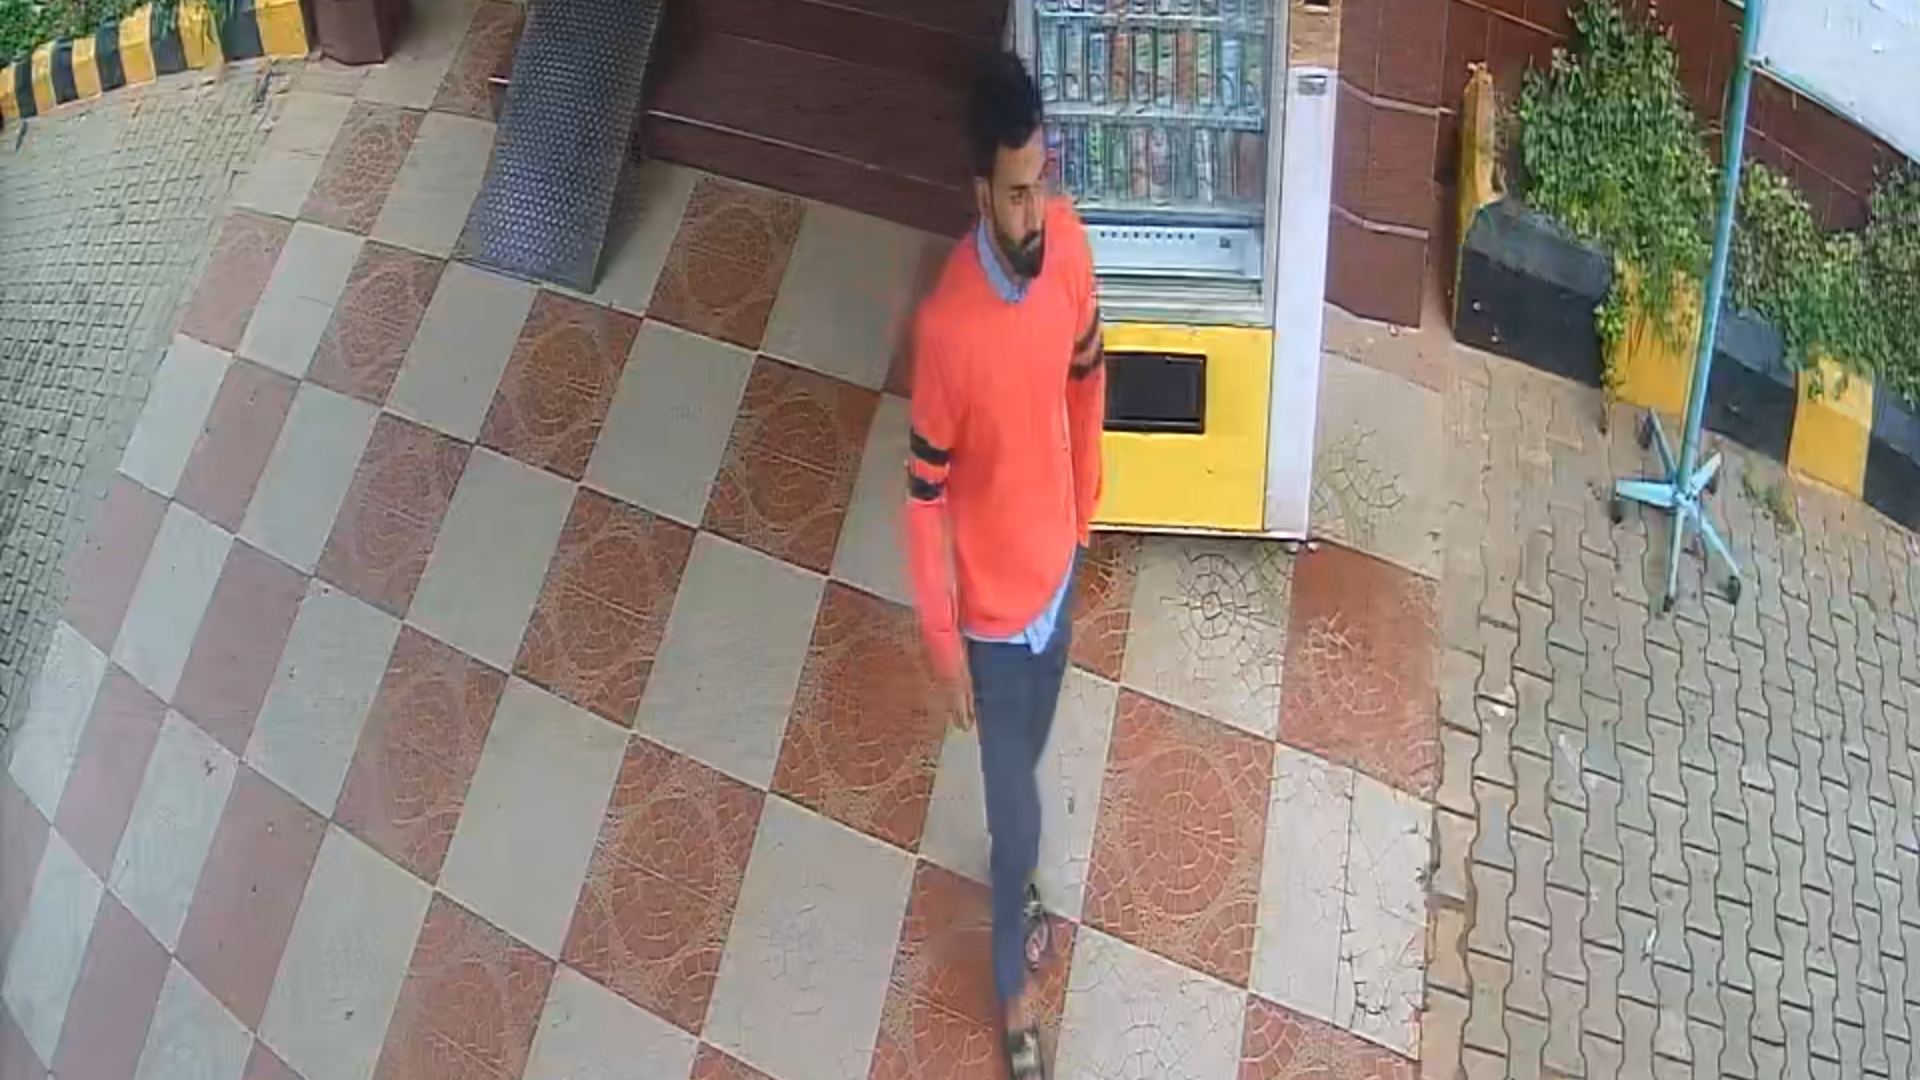intruder: (885, 47, 1116, 1076)
